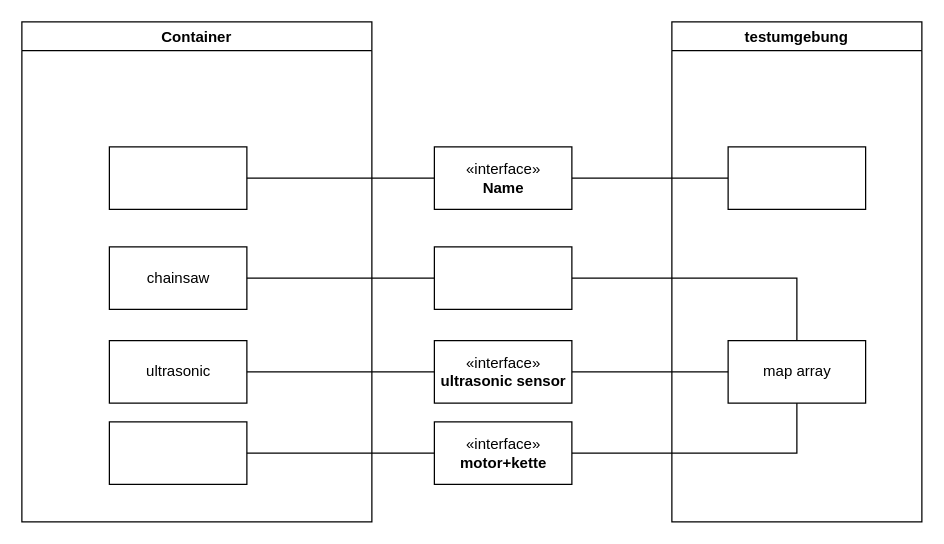
This 944x544 diagram has some shape labels left out. The shapes that lost their labels are listed below. From the top down, each one's centre as x and y in pixels, then its label:
point (177, 177): sensor
point (796, 177): person
point (502, 277): «interface» chainsaw
point (177, 452): drive
